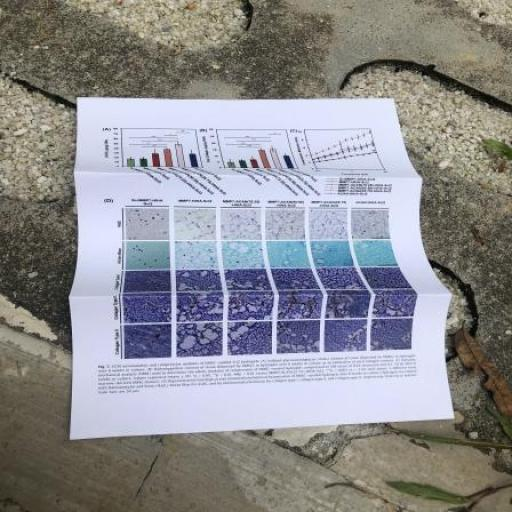paper: (42, 63, 461, 500)
